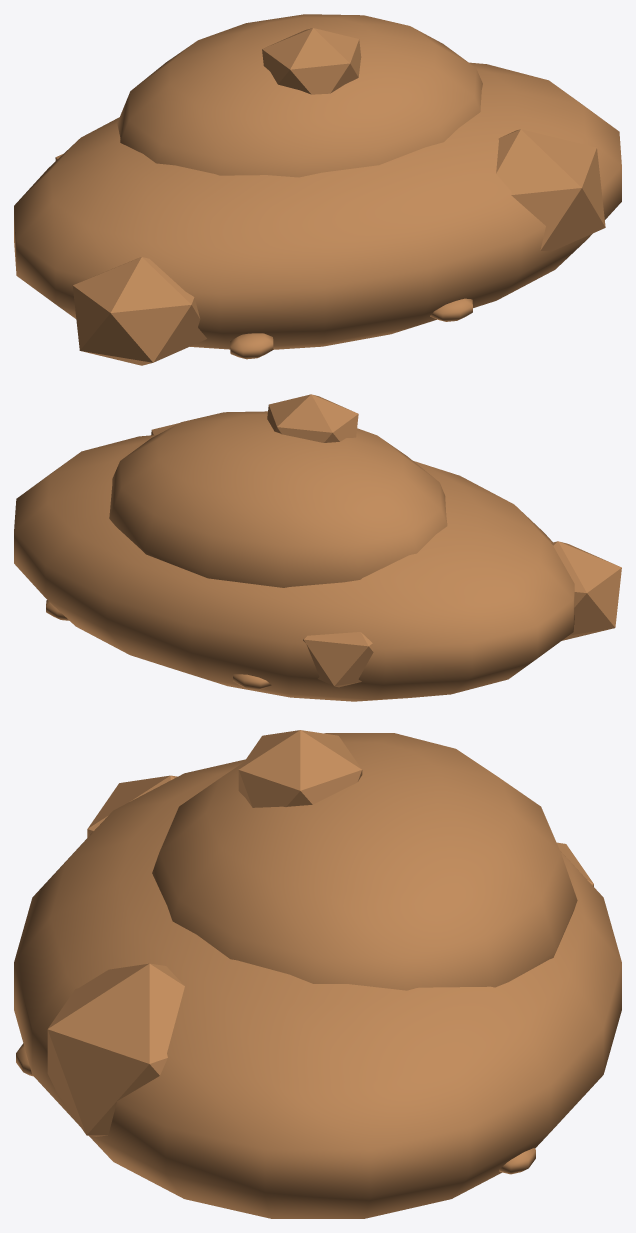
Rendered from soil.glb.
3 renders of one model, top to bottom at view 1: azimuth 30°, elevation 25°; view 2: azimuth 150°, elevation 25°; view 3: azimuth 270°, elevation 25°, orthographic. The views are drawn at different scales.
Visible parts, largest first — view 1: soil_mesh; view 2: soil_mesh; view 3: soil_mesh.
Boxes of the visible parts, x1,y1,x2,y2 form: soil_mesh: (14,14,621,365); soil_mesh: (14,394,621,701); soil_mesh: (14,730,621,1218).
Bounding box in the file's own units: 2.57 × 1.21 × 1.73.
